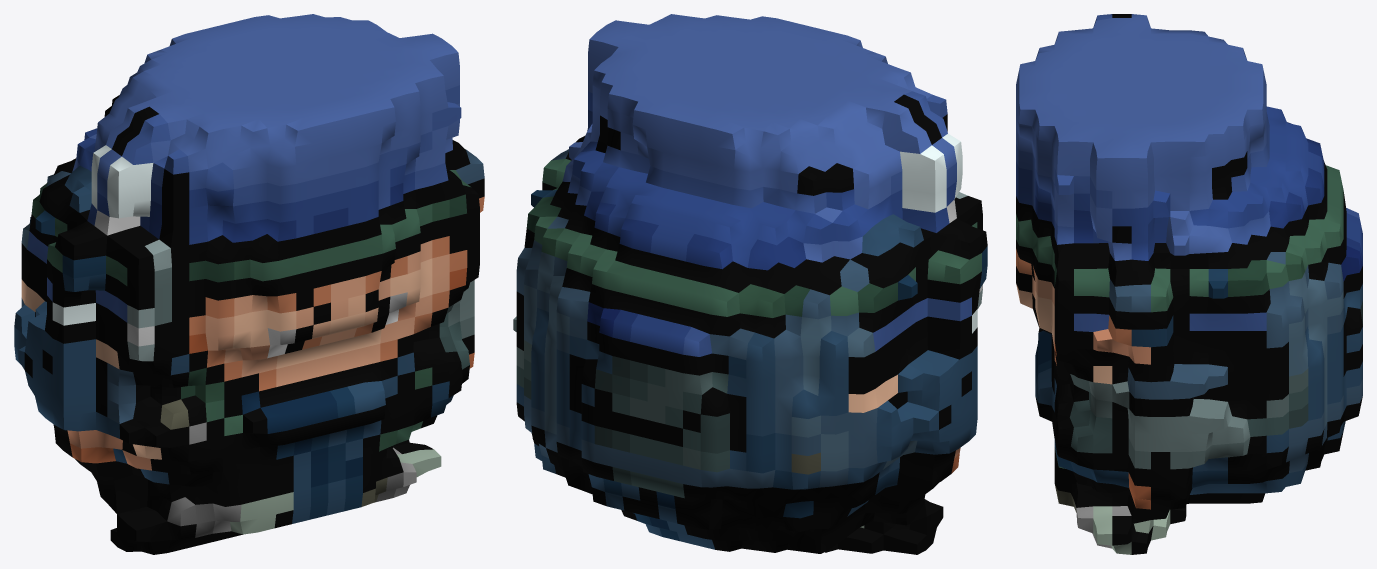
Rendered from Icon_203_01.obj.
The picture shows the model from 3 angles, left to right: view 1: azimuth 30°, elevation 25°; view 2: azimuth 150°, elevation 25°; view 3: azimuth 270°, elevation 25°; orthographic projection. The views are drawn at different scales.
Bounding box in the file's own units: 2.4 × 2.4 × 1.8.
Materials: 1 (1 with a texture image).
